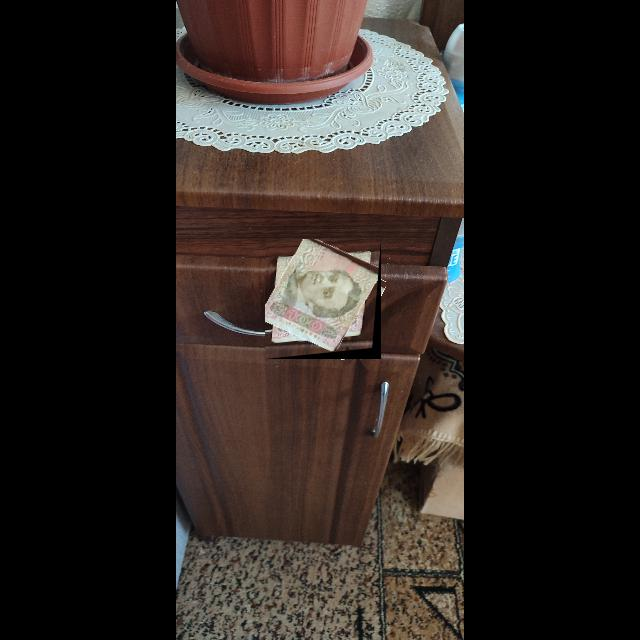100uah: (265, 239, 380, 354)
